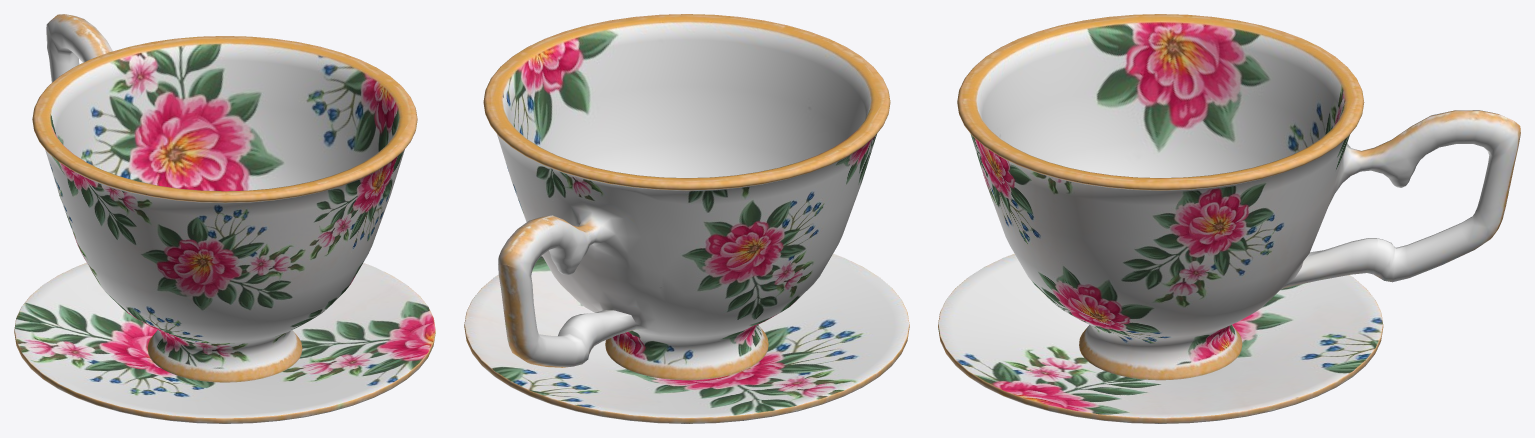
The picture shows the model from 3 angles, left to right: view 1: azimuth 30°, elevation 25°; view 2: azimuth 150°, elevation 25°; view 3: azimuth 270°, elevation 25°; orthographic projection. The views are drawn at different scales.
Visible parts, largest first — view 1: cup, dish; view 2: cup, dish; view 3: cup, dish.
Boxes of the visible parts, x1,y1,x2,y2 form: cup: (32,14,417,382); dish: (14,263,435,423); cup: (483,14,890,380); dish: (464,254,909,423); cup: (957,14,1520,380); dish: (938,254,1383,423).
Size of the model in its own units: 68.85 by 44.26 by 90.12.
Materials: 1 (1 with a texture image).
